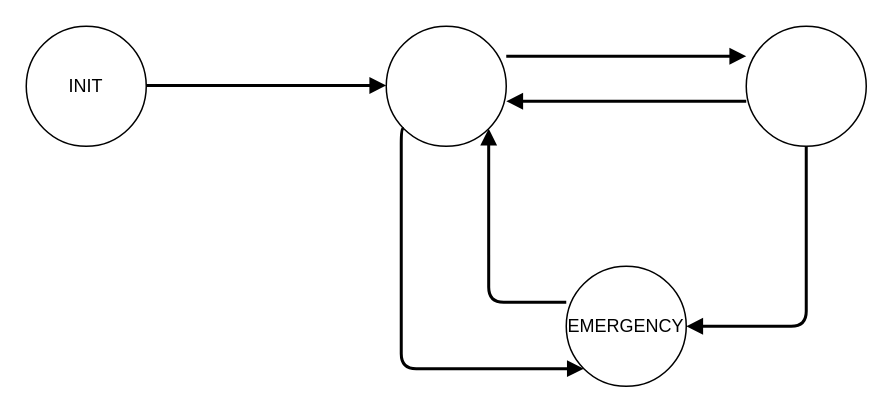
Image size: 893x413. Some labels were removed from this diagram. The shapes that lost their labels are listed below. From the top down, each one's box as (x1, y1, x2, y2) in pixels, then its label:
(385, 25, 506, 146): RUNNING
(745, 25, 866, 146): DANGER
